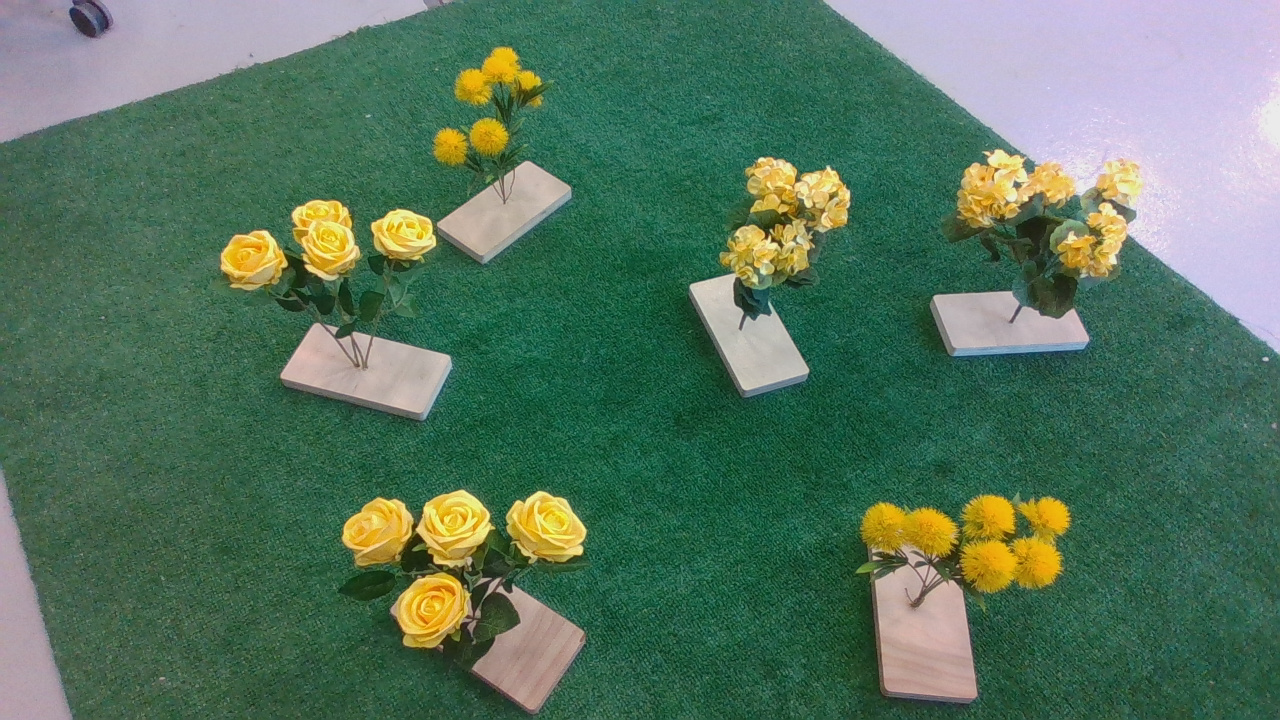dandelion: (852, 491, 1091, 611), (420, 47, 573, 186)
geranium: (948, 151, 1154, 326), (715, 158, 864, 336)
rose: (335, 489, 616, 682), (214, 202, 451, 335)
